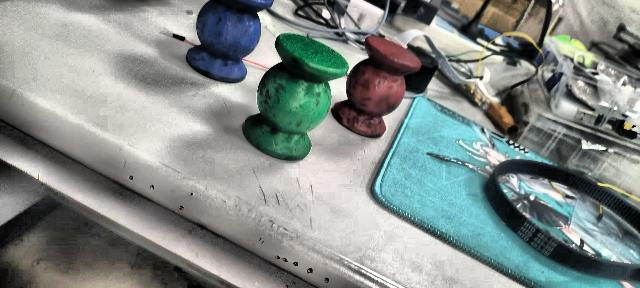blue: (185, 1, 273, 84)
green: (242, 32, 348, 160)
red: (331, 33, 423, 139)
